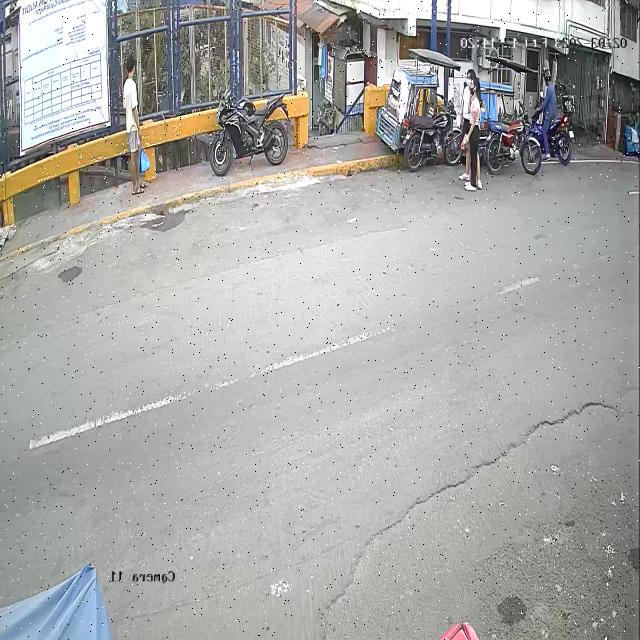human: (123, 57, 150, 195)
trash: (139, 141, 151, 176)
